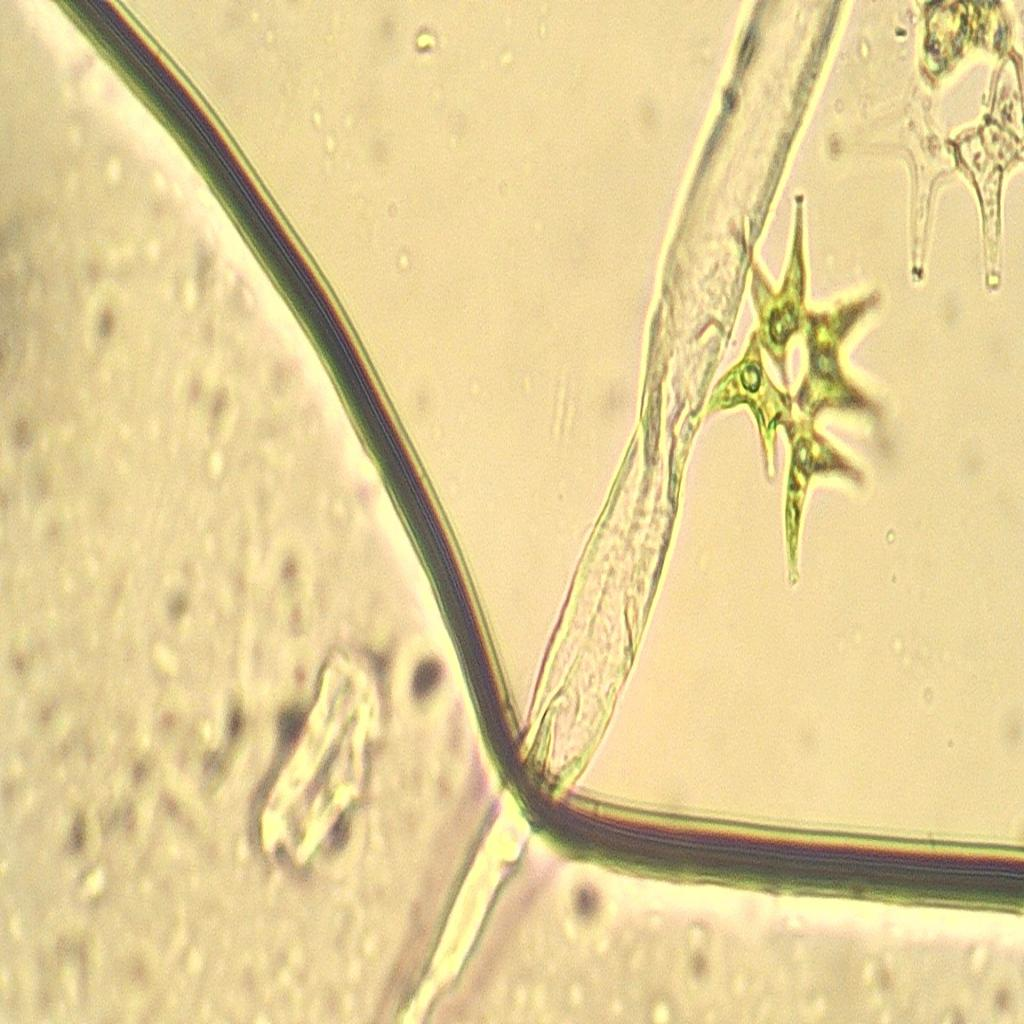Pediastrum_CF: (686, 182, 902, 606)
